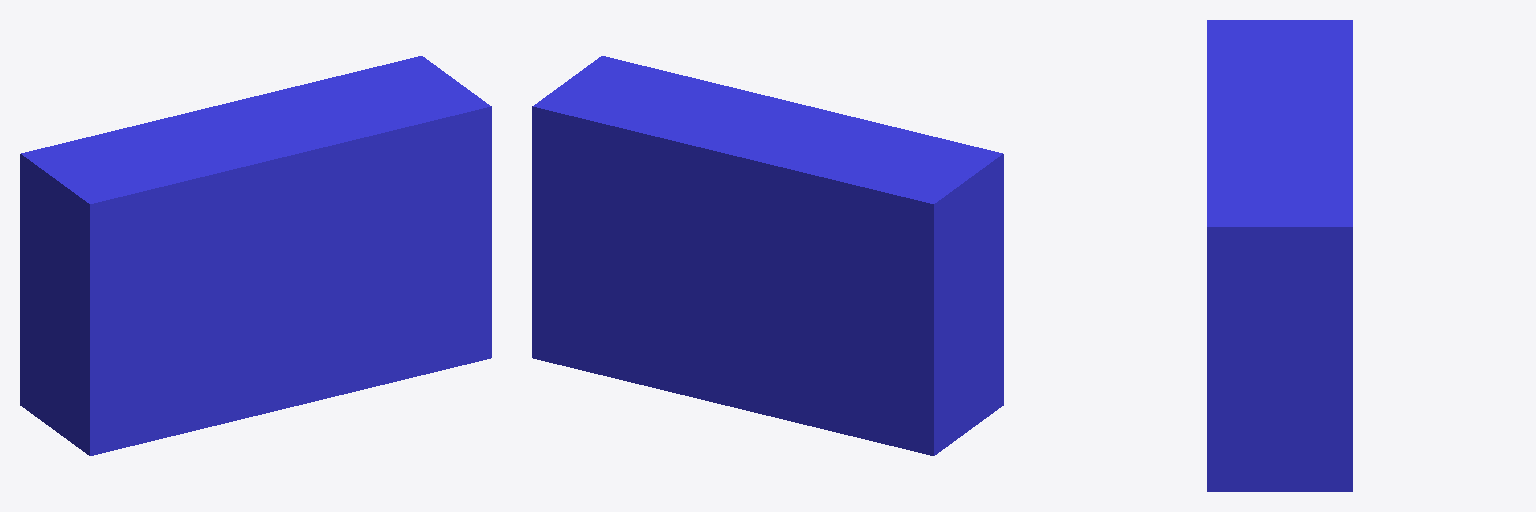
The robot description file, URDF, robot "triangular_prism":
<?xml version='1.0' encoding='UTF-8'?>
<robot name="triangular_prism">
  <link name="base_link">
    <inertial>
      <origin xyz="0.0 0.0 0.0" rpy="0.0 -0.0 0.0"/>
      <mass value="1.0"/>
      <inertia ixx="1.0" ixy="0.0" ixz="0.0" iyy="1.0" iyz="0.0" izz="1.0"/>
    </inertial>
    <visual name="base_link_visual">
      <geometry>
        <box size="1.191 0.357 0.714"/>
      </geometry>
      <origin xyz="0 0 0" rpy="0 0 0"/>
      <material name="object_color">
        <color rgba="0.3 0.3 0.95 1"/>
      </material>
    </visual>
    <collision name="base_link_collision">
      <geometry>
        <box size="1.191 0.357 0.714"/>
      </geometry>
      <origin xyz="0 0 0" rpy="0 0 0"/>
    </collision>
  </link>
</robot> 

--- Facts derived from the render (not from the file) ---
3 views of the same robot in one strip: view 1: azimuth 30°, elevation 25°; view 2: azimuth 150°, elevation 25°; view 3: azimuth 270°, elevation 25° (orthographic).
Robot: triangular_prism — 1 links, 0 joints (none); root link base_link; default pose: all joints at 0.
Visible links, largest first — view 1: base_link; view 2: base_link; view 3: base_link.
Link boxes in pixels (x1,y1,x2,y2): base_link: (20, 56, 491, 455); base_link: (532, 56, 1003, 455); base_link: (1207, 20, 1352, 491).
Size in the robot's own frame: 1.19 by 0.357 by 0.714 metres.
Geometry: primitives only (box / cylinder / sphere), no mesh files.
